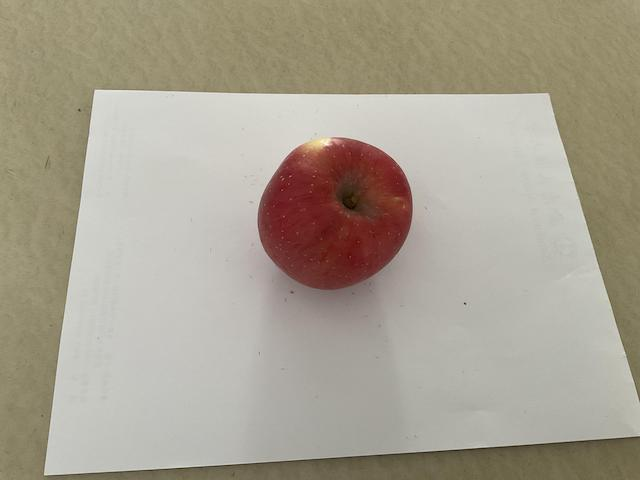apple: (253, 131, 417, 295)
